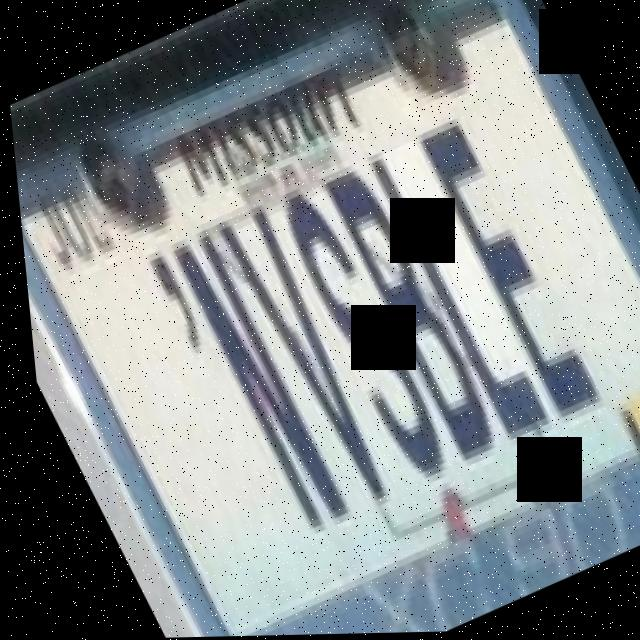B: (314, 160, 503, 474)
E: (406, 109, 605, 433)
L: (361, 140, 549, 446)
N: (157, 222, 356, 549)
S: (262, 180, 452, 486)
V: (203, 195, 400, 518)
